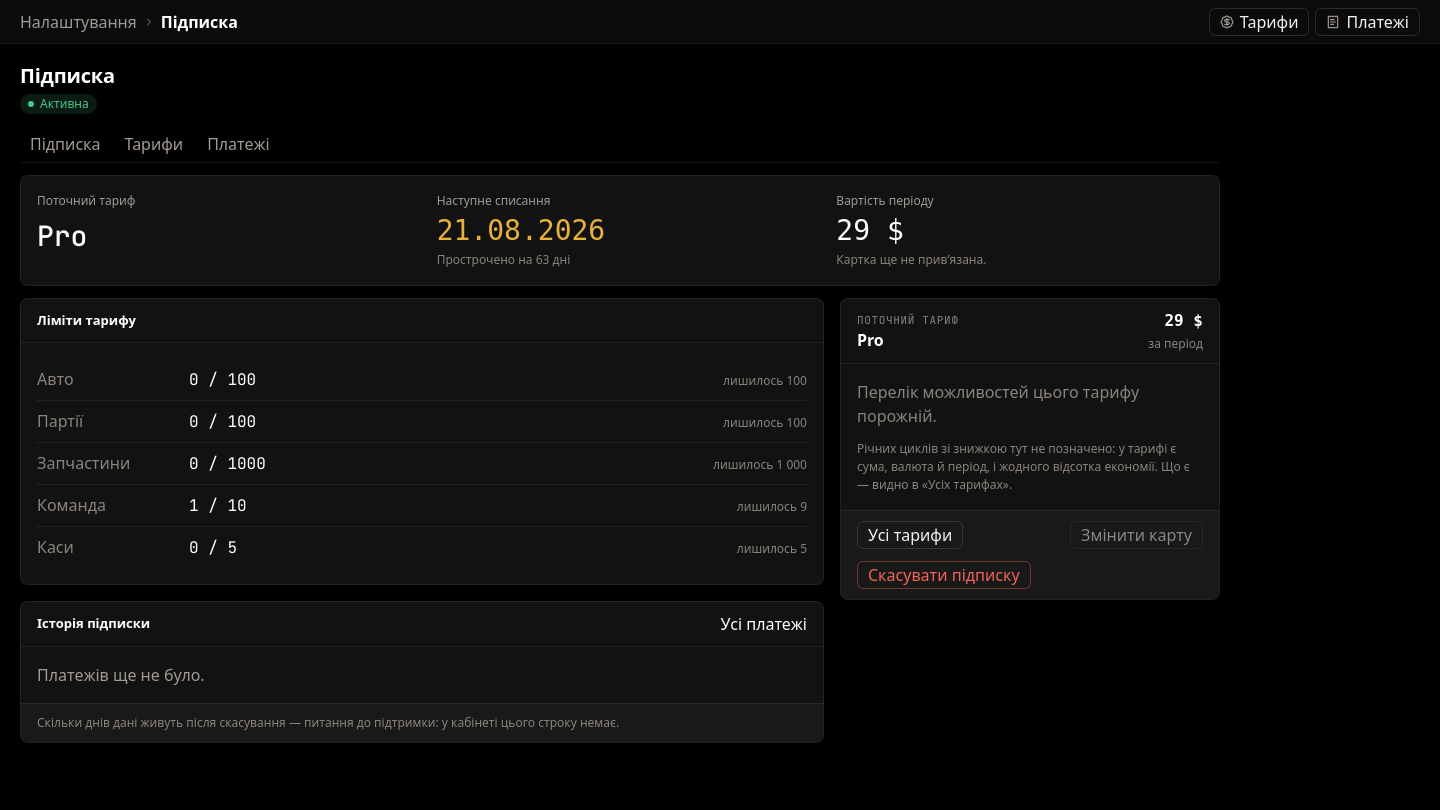
Test: confirms a completed cancellation with the refreshed subscription state
Click the button "Скасувати підписку" at (944,575), box [857,561,1031,589]
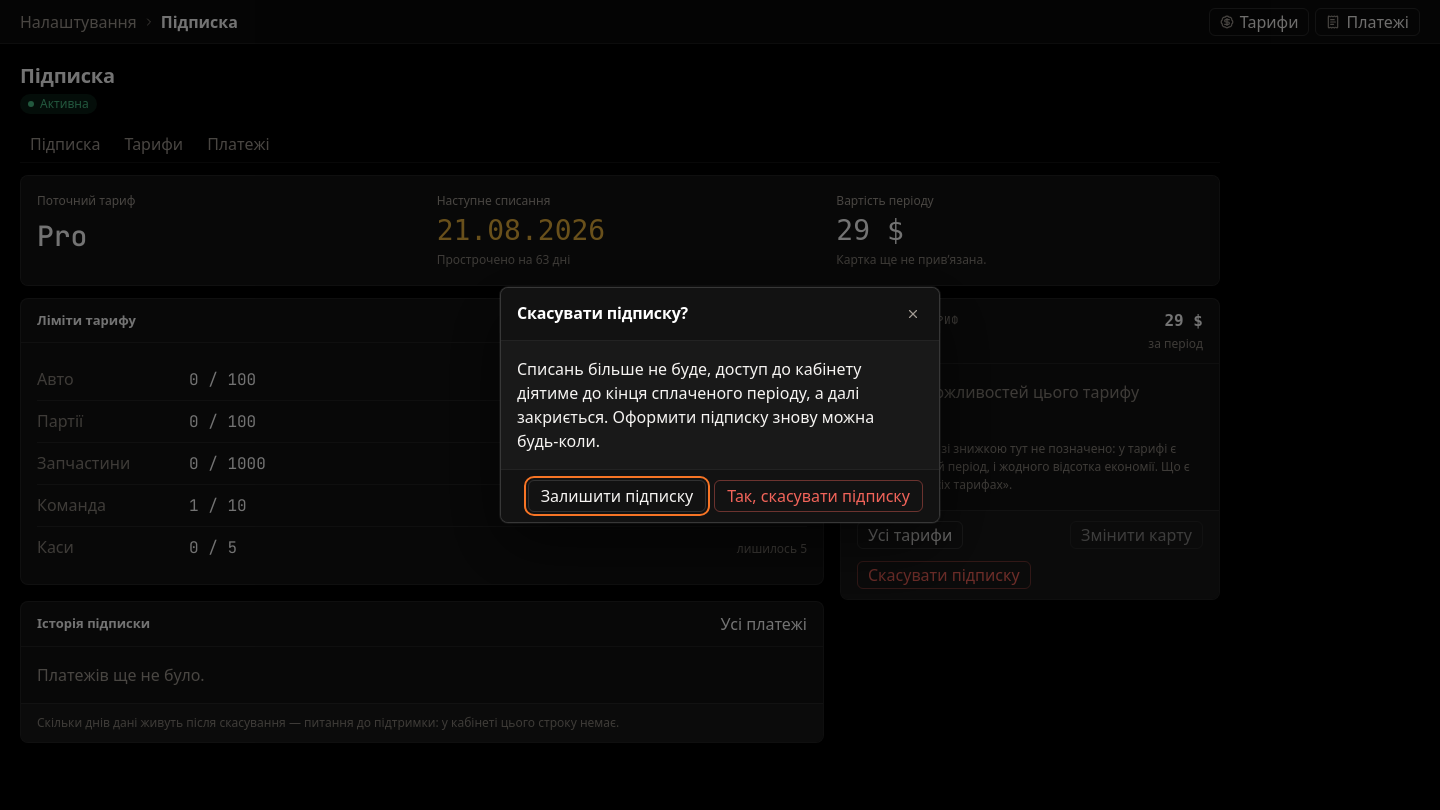
Click the button "Так, скасувати підписку" at (819,496), box [714,480,923,512]
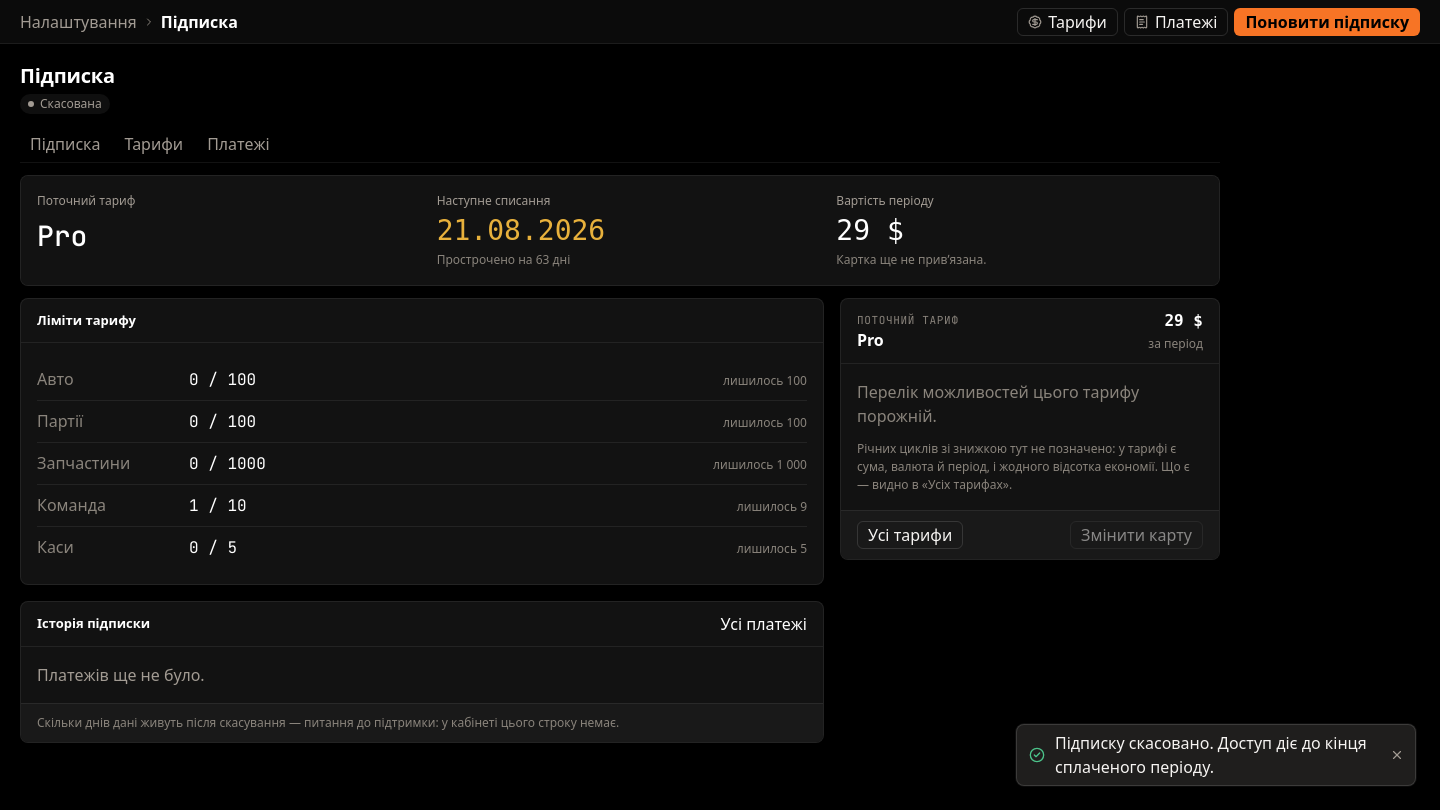
Now the message shows "Підписку скасовано.", box [1055,732,1367,778]
Now the text "Скасована" is shown, box [20,94,110,114]
